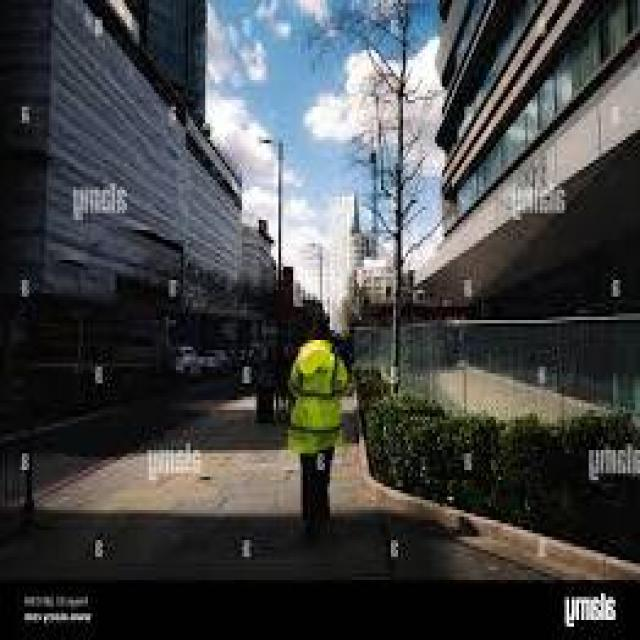Reflective-Jacket: (278, 333, 356, 477)
